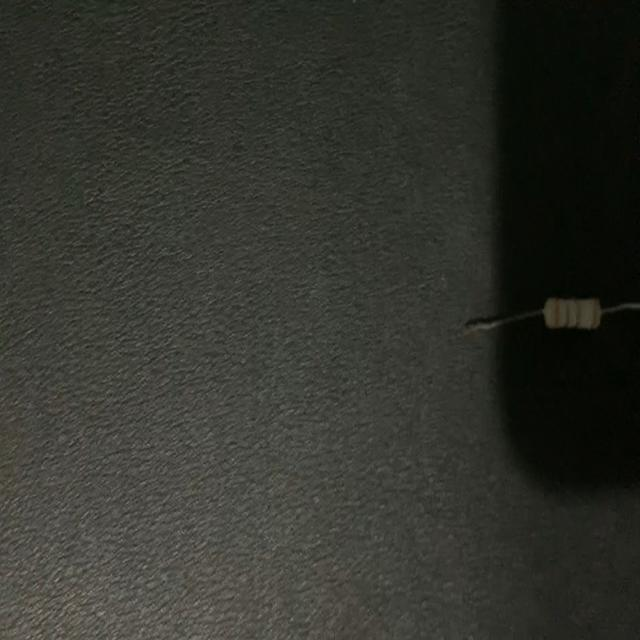resistor: (448, 274, 640, 362)
